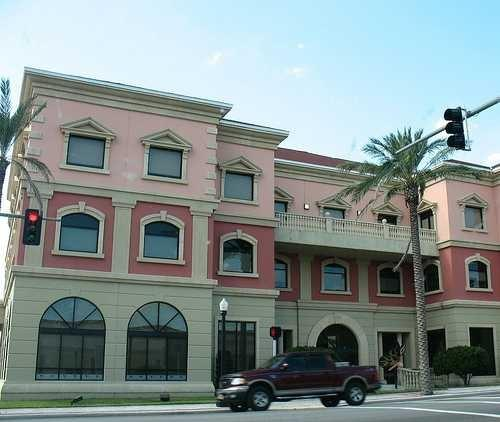red: (21, 207, 42, 246)
